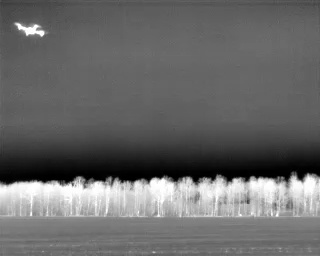DRONE: (10, 18, 52, 42)
